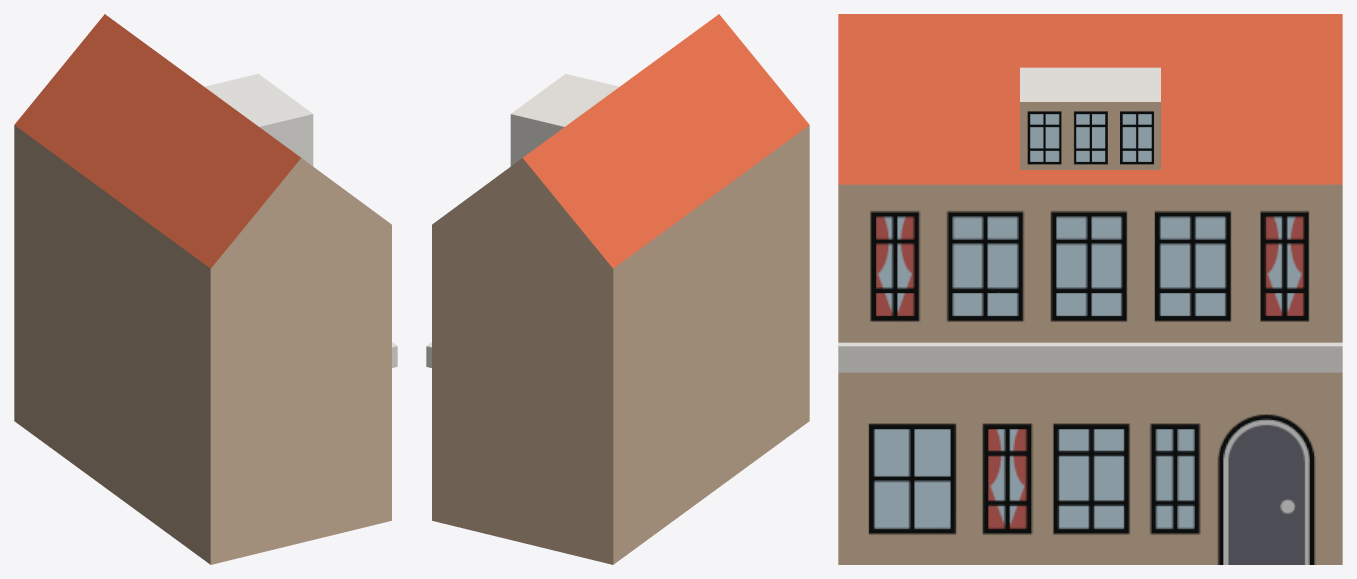
Rendered from StandaardHuisBreed_Var1.fbx.
3 views of the same model, side by side, from view 1: azimuth 30°, elevation 25°; view 2: azimuth 150°, elevation 25°; view 3: azimuth 270°, elevation 25° (orthographic). The views are drawn at different scales.
Visible parts, largest first — view 1: StandaardHuisBreed_Var1; view 2: StandaardHuisBreed_Var1; view 3: StandaardHuisBreed_Var1.
Boxes of the visible parts, x1=… form: StandaardHuisBreed_Var1: x1=14, y1=14, x2=397, y2=564; StandaardHuisBreed_Var1: x1=426, y1=14, x2=809, y2=564; StandaardHuisBreed_Var1: x1=838, y1=14, x2=1342, y2=564.
Bounding box in the file's own units: 66.04 × 130 × 120.
1 material, 1 textured.
